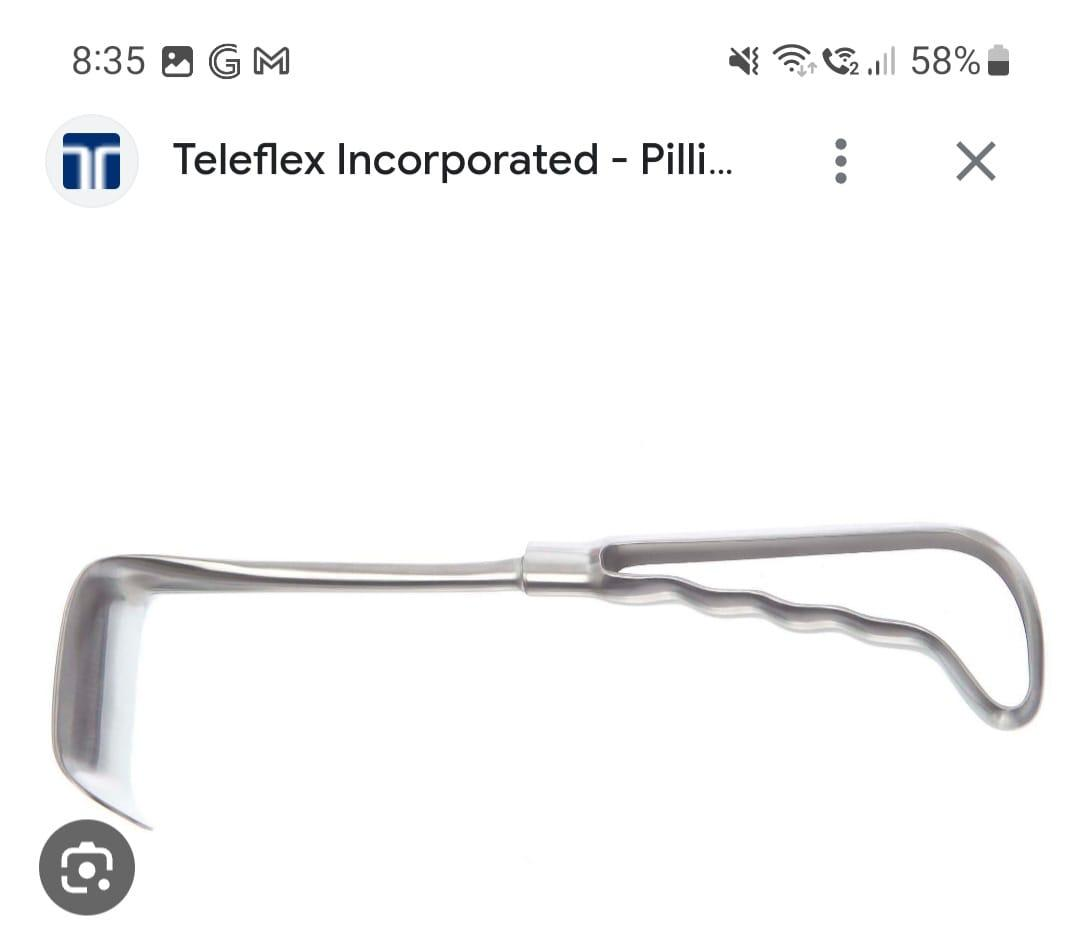Kelly Retractor: (53, 504, 1051, 836)
